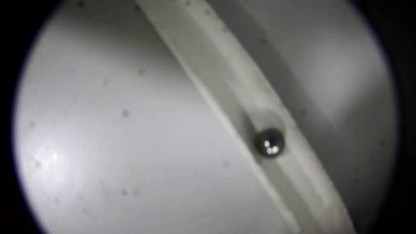gangzhu: (252, 127, 286, 158)
